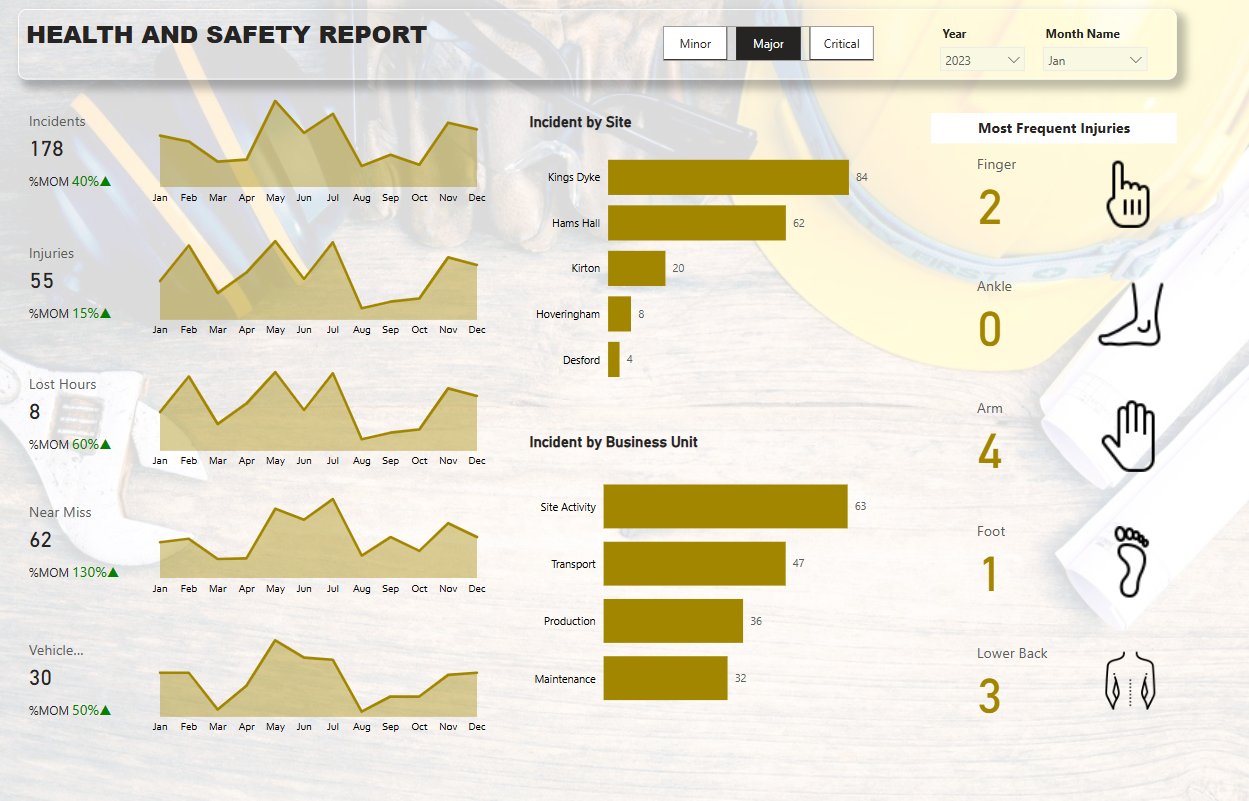

The page's visual inventory and layout, read from the dashboard file:
{"tool":"powerbi","page":{"name":"Major","canvas":[1400,900],"ordinal":1},"visuals":[{"type":"textbox","box":[20.2,12.5,1297.1,78.8],"z":0},{"type":"cardVisual","fields":{"Data":["_measure.Total Incident"]},"box":[20,101.2,141.2,138.8],"z":0,"group":"g3"},{"type":"cardVisual","fields":{"Data":["CountNonNull(heath.Most Frequent Injury)"]},"box":[1081.2,162.4,235.3,105.9],"z":0,"group":"g6"},{"type":"cardVisual","fields":{"Data":["_measure.Total Injury"]},"box":[20,248.2,141.2,138.8],"z":0,"group":"g2"},{"type":"cardVisual","fields":{"Data":["_measure.Total Lost Hours"]},"box":[20,395.3,141.2,138.8],"z":0,"group":"g4"},{"type":"cardVisual","fields":{"Data":["_measure.Total Near Miss"]},"box":[20,540,141.2,137.6],"z":0,"group":"g5"},{"type":"cardVisual","fields":{"Data":["_measure.Total Vehicle Incidents"]},"box":[20,692.9,141.2,138.8],"z":0,"group":"g1"},{"type":"slicer","fields":{"Values":["date.MonthName"]},"box":[1157.7,26,136.5,150],"z":1000},{"type":"areaChart","title":"Total Incident by Month","fields":{"Y":["_measure.Total Incident"],"Category":["date.MonthName"]},"box":[161.2,101.2,390.6,138.8],"z":1000,"group":"g3"},{"type":"areaChart","title":"Total Injuries by Month","fields":{"Category":["date.MonthName"],"Y":["_measure.Total Injury"]},"box":[161.2,248.2,390.6,138.8],"z":1000,"group":"g2"},{"type":"cardVisual","fields":{"Data":["CountNonNull(heath.Most Frequent Injury)"]},"box":[1081.2,299.2,236.5,105.9],"z":1000,"group":"g6"},{"type":"areaChart","title":"Total Injuries by Month","fields":{"Category":["date.MonthName"],"Y":["_measure.Total Injury"]},"box":[161.2,395.3,390.6,138.8],"z":1000,"group":"g4"},{"type":"areaChart","title":"Total Lost Hours by Month","fields":{"Category":["date.MonthName"],"Y":["_measure.Total Near Miss"]},"box":[161.2,538.8,390.6,138.8],"z":1000,"group":"g5"},{"type":"areaChart","title":"Total Vehicle Incidents by Month","fields":{"Category":["date.MonthName"],"Y":["_measure.Total Vehicle Incidents"]},"box":[161.2,692.9,390.6,138.8],"z":1000,"group":"g1"},{"type":"slicer","fields":{"Values":["date.Year"]},"box":[1042.3,26,115.4,150],"z":2000},{"type":"cardVisual","fields":{"Data":["CountNonNull(heath.Most Frequent Injury)"]},"box":[1081.2,435.9,236.5,105.9],"z":2000,"group":"g6"},{"type":"cardVisual","fields":{"Data":["CountNonNull(heath.Most Frequent Injury)"]},"box":[1081.2,572.7,236.5,105.9],"z":3000,"group":"g6"},{"type":"group","id":"g1","title":"Group 1","box":[20,692.9,531.8,138.8],"z":3000},{"type":"group","id":"g2","title":"Group 4","box":[20,248.2,531.8,138.8],"z":4000},{"type":"cardVisual","fields":{"Data":["CountNonNull(heath.Most Frequent Injury)"]},"box":[1081.2,709.5,236.5,105.9],"z":4000,"group":"g6"},{"type":"group","id":"g3","title":"Group 5","box":[20,101.2,531.8,138.8],"z":5000},{"type":"clusteredBarChart","title":"Incident by  Site","fields":{"Y":["_measure.Total Incident"],"Category":["heath. Site"]},"box":[588.2,128.2,390.6,322.4],"z":6000},{"type":"clusteredBarChart","title":"Incident by  Business Unit","fields":{"Y":["_measure.Total Incident"],"Category":["heath.Business Unit"]},"box":[588.2,487.1,390.6,331.8],"z":7000},{"type":"textbox","box":[1042.4,128.2,275.3,34.1],"z":8000},{"type":"group","id":"g4","title":"Group 2","box":[20,395.3,531.8,138.8],"z":9000},{"type":"group","id":"g5","title":"Group 3","box":[20,538.8,531.8,138.8],"z":10000},{"type":"group","id":"g6","title":"Group 6","box":[1081.2,162.4,236.5,652.9],"z":11000},{"type":"pageNavigator","box":[742.4,31.8,236.5,38.8],"z":12000}]}

Visuals, with their boxes in screenshot pixels (x1, y1, x2, y2), scaled from the page's 1400x900 canvas onto the 1249x801 screenshot:
textbox: bbox(18, 11, 1175, 81)
cardVisual - _measure.Total Incident: bbox(18, 90, 144, 214)
cardVisual - CountNonNull(heath.Most Frequent Injury): bbox(965, 145, 1175, 239)
cardVisual - _measure.Total Injury: bbox(18, 221, 144, 344)
cardVisual - _measure.Total Lost Hours: bbox(18, 352, 144, 475)
cardVisual - _measure.Total Near Miss: bbox(18, 481, 144, 603)
cardVisual - _measure.Total Vehicle Incidents: bbox(18, 617, 144, 740)
slicer - date.MonthName: bbox(1033, 23, 1155, 157)
"Total Incident by Month" areaChart: bbox(144, 90, 492, 214)
"Total Injuries by Month" areaChart: bbox(144, 221, 492, 344)
cardVisual - CountNonNull(heath.Most Frequent Injury): bbox(965, 266, 1176, 361)
"Total Injuries by Month" areaChart: bbox(144, 352, 492, 475)
"Total Lost Hours by Month" areaChart: bbox(144, 480, 492, 603)
"Total Vehicle Incidents by Month" areaChart: bbox(144, 617, 492, 740)
slicer - date.Year: bbox(930, 23, 1033, 157)
cardVisual - CountNonNull(heath.Most Frequent Injury): bbox(965, 388, 1176, 482)
cardVisual - CountNonNull(heath.Most Frequent Injury): bbox(965, 510, 1176, 604)
"Group 1" group: bbox(18, 617, 492, 740)
"Group 4" group: bbox(18, 221, 492, 344)
cardVisual - CountNonNull(heath.Most Frequent Injury): bbox(965, 631, 1176, 726)
"Group 5" group: bbox(18, 90, 492, 214)
"Incident by  Site" clusteredBarChart: bbox(525, 114, 873, 401)
"Incident by  Business Unit" clusteredBarChart: bbox(525, 434, 873, 729)
textbox: bbox(930, 114, 1176, 144)
"Group 2" group: bbox(18, 352, 492, 475)
"Group 3" group: bbox(18, 480, 492, 603)
"Group 6" group: bbox(965, 145, 1176, 726)
pageNavigator: bbox(662, 28, 873, 63)
